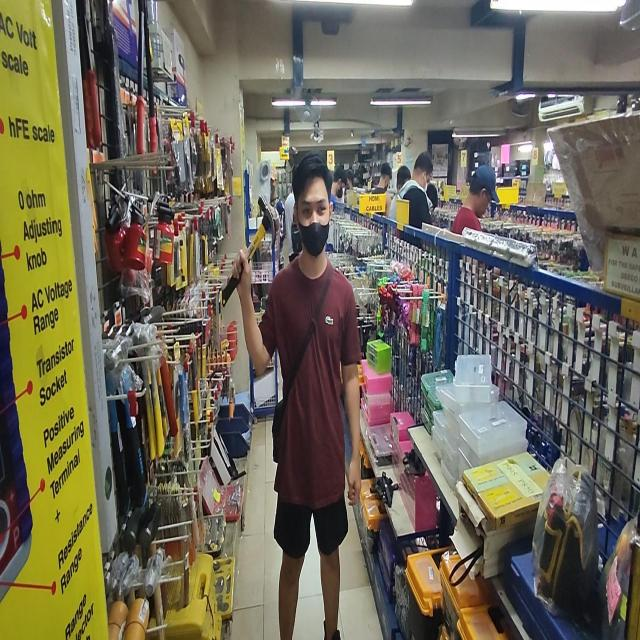hammer: (221, 194, 276, 308)
